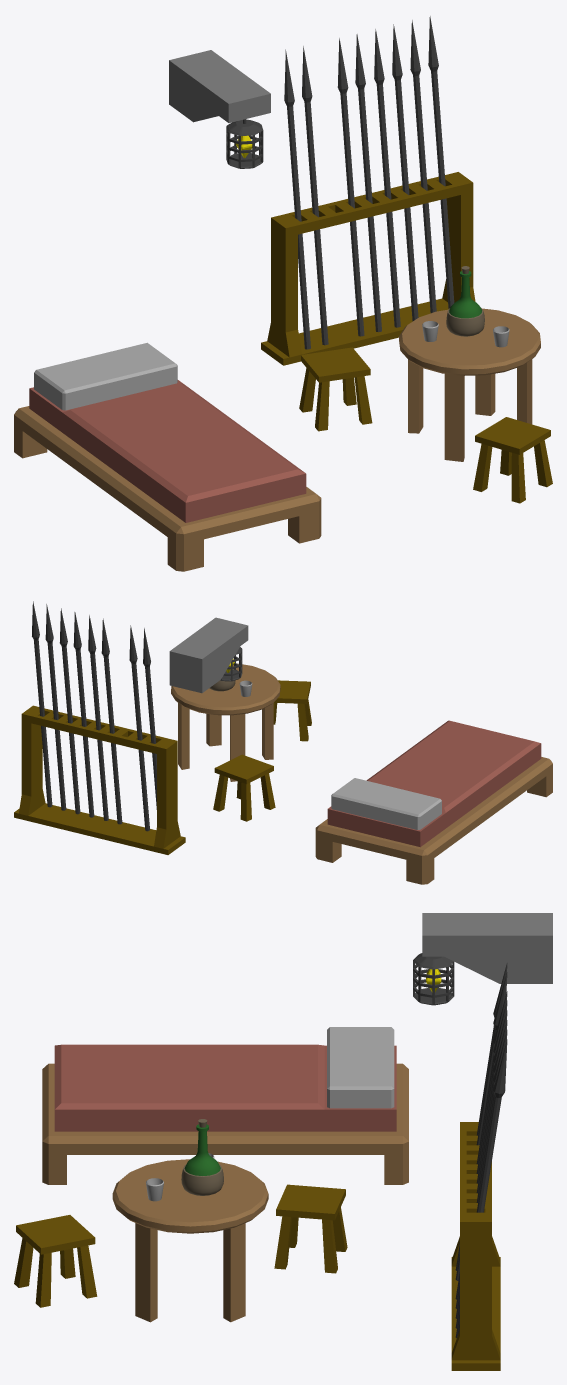
Rendered from SmallBedroom.fbx.
3 renders of one model, top to bottom at view 1: azimuth 30°, elevation 25°; view 2: azimuth 150°, elevation 25°; view 3: azimuth 270°, elevation 25°, orthographic. The views are drawn at different scales.
Visible parts, largest first — view 1: Bed, SpearRack, Table, Hangar, Stool1, Stool, pCylinder4, pCylinder5, pCylinder2, pCylinder3, pCylinder1, pCylinder6 (+4 smaller); view 2: Bed, SpearRack, Table, Hangar, Stool, Stool1, pCylinder2, pCylinder7, pCylinder3, pCylinder4, pCylinder5, pCylinder6 (+3 smaller); view 3: Bed, Table, SpearRack, Hangar, Stool1, Stool, Wine, Cage, pCylinder8, pCylinder2.
Part boxes in pixels (x1,y1,x2,y2): Bed: [14, 342, 321, 571]; SpearRack: [261, 172, 475, 365]; Table: [399, 308, 540, 461]; Hangar: [169, 50, 270, 122]; Stool1: [473, 417, 552, 503]; Stool: [299, 347, 372, 431]; pCylinder4: [355, 34, 381, 332]; pCylinder5: [374, 29, 400, 327]; pCylinder2: [302, 46, 328, 345]; pCylinder3: [337, 38, 364, 336]; pCylinder1: [284, 49, 310, 349]; pCylinder6: [392, 24, 418, 321]; Bed: [315, 720, 552, 884]; SpearRack: [14, 705, 185, 854]; Table: [171, 663, 280, 781]; Hangar: [169, 617, 248, 693]; Stool: [213, 754, 275, 821]; Stool1: [273, 680, 311, 741]; pCylinder2: [129, 625, 149, 831]; pCylinder7: [45, 604, 66, 810]; pCylinder3: [101, 618, 122, 824]; pCylinder4: [88, 615, 108, 820]; pCylinder5: [73, 612, 94, 817]; pCylinder6: [59, 608, 80, 814]; Bed: [42, 1027, 408, 1184]; Table: [112, 1159, 268, 1322]; SpearRack: [451, 1122, 500, 1370]; Hangar: [422, 913, 552, 983]; Stool1: [14, 1215, 97, 1307]; Stool: [274, 1184, 347, 1273]; Wine: [181, 1119, 223, 1195]; Cage: [413, 953, 454, 1005]; pCylinder8: [457, 1039, 507, 1335]; pCylinder2: [455, 972, 507, 1280].
Size of the model in its own units: 4.69 by 2.65 by 4.08.
